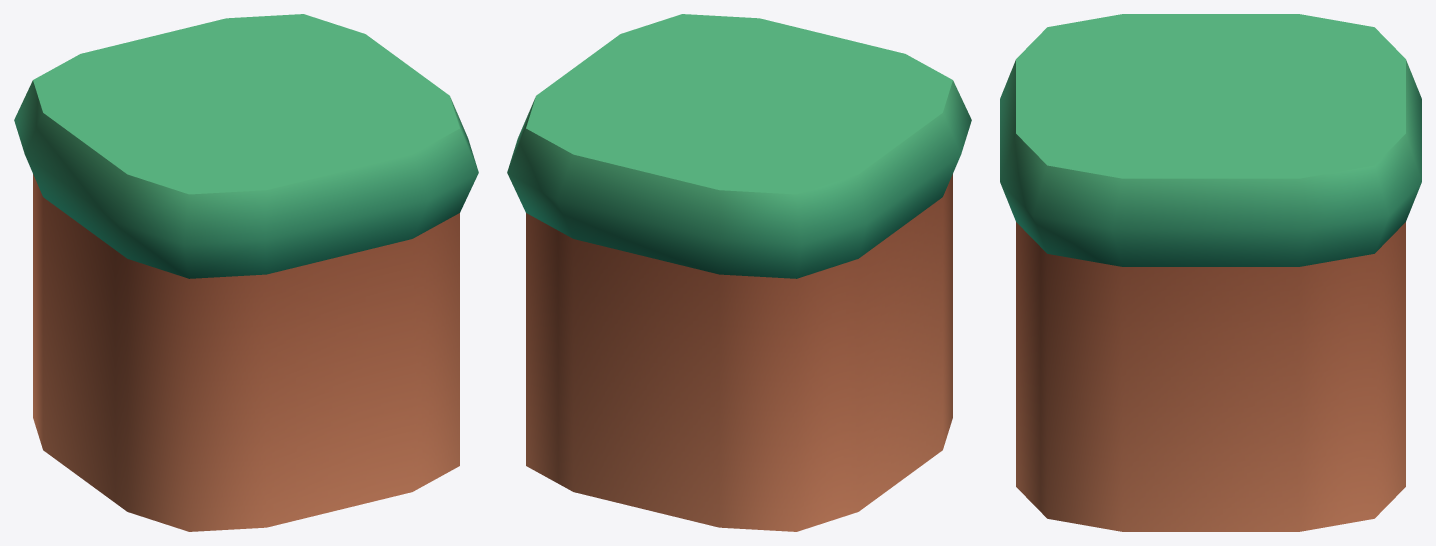
The model's file is block-grass.fbx.
The picture shows the model from 3 angles, left to right: view 1: azimuth 30°, elevation 25°; view 2: azimuth 150°, elevation 25°; view 3: azimuth 270°, elevation 25°; orthographic projection. The views are drawn at different scales.
Parts seen in each view (by area): view 1: block-grass; view 2: block-grass; view 3: block-grass.
Part boxes in pixels (x1,y1,x2,y2): block-grass: [14, 14, 478, 531]; block-grass: [507, 14, 971, 531]; block-grass: [1000, 14, 1421, 531].
Bounding box in the file's own units: 108 × 100 × 108.
